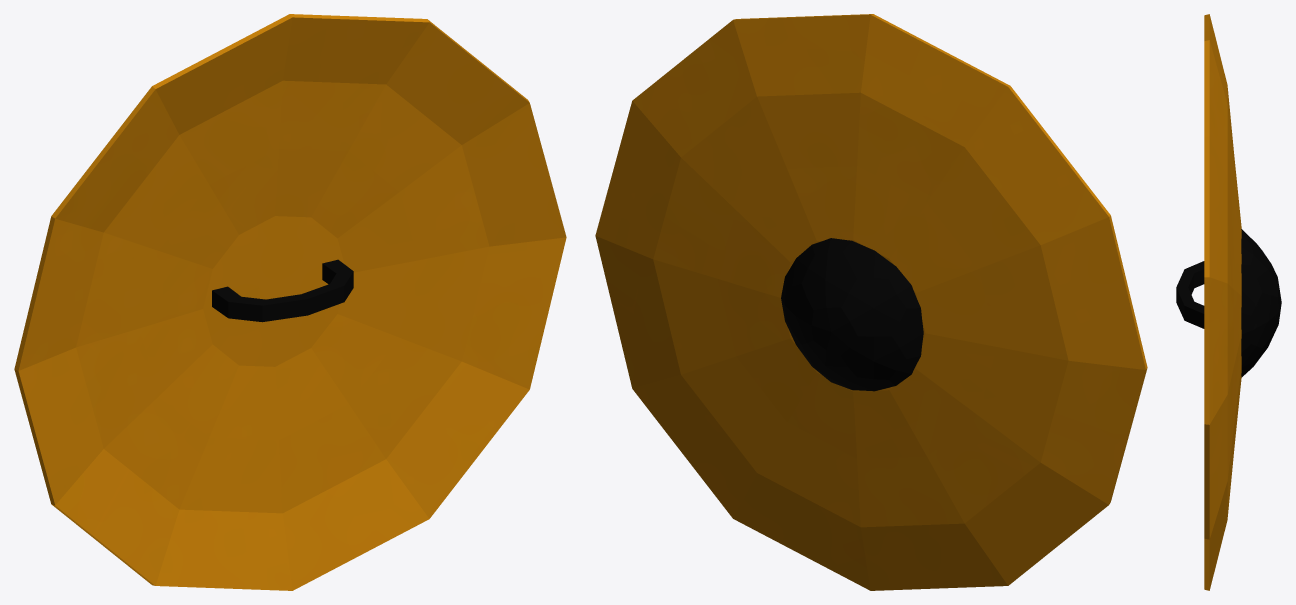
Rendered from Shield_1.fbx.
The picture shows the model from 3 angles, left to right: view 1: azimuth 30°, elevation 25°; view 2: azimuth 150°, elevation 25°; view 3: azimuth 270°, elevation 25°; orthographic projection. The views are drawn at different scales.
Parts seen in each view (by area): view 1: Shield 1; view 2: Shield 1; view 3: Shield 1.
Part boxes in pixels (x1=…): Shield 1: x1=14, y1=14, x2=566, y2=590; Shield 1: x1=595, y1=14, x2=1147, y2=590; Shield 1: x1=1176, y1=14, x2=1281, y2=590.
Size of the model in its own units: 55.71 by 55.71 by 10.15.
